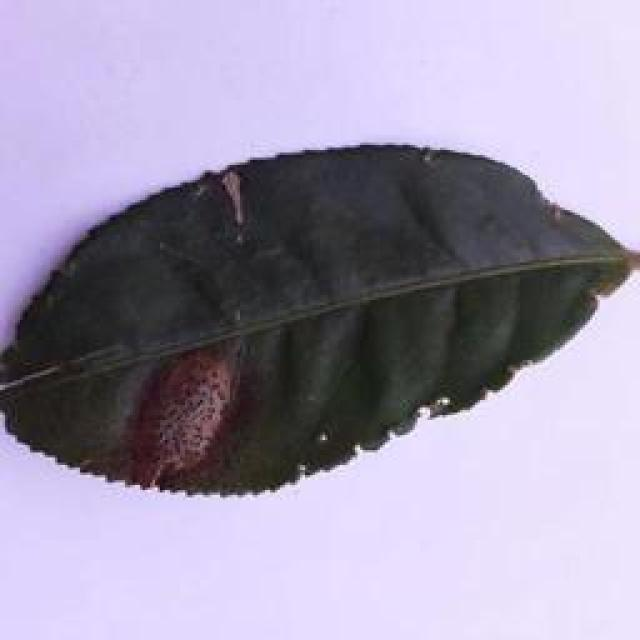Gray Blight: (0, 143, 633, 508)
